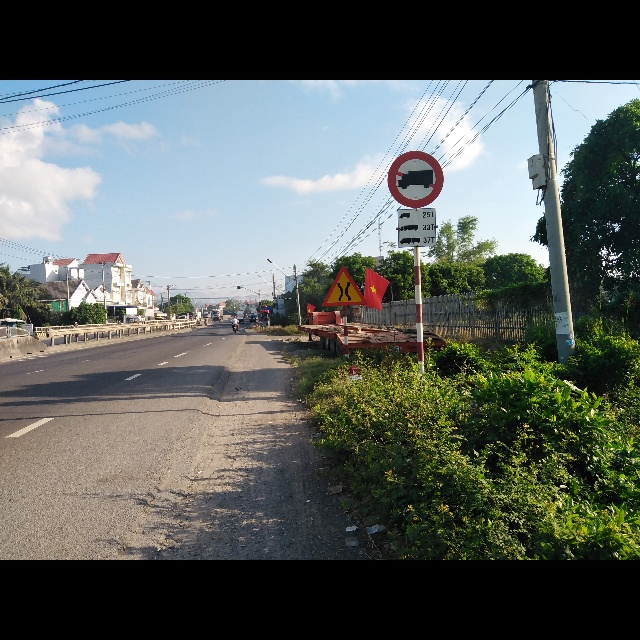Cấm xe tải: (386, 152, 443, 209)
Cầu hẹp: (321, 265, 367, 307)
